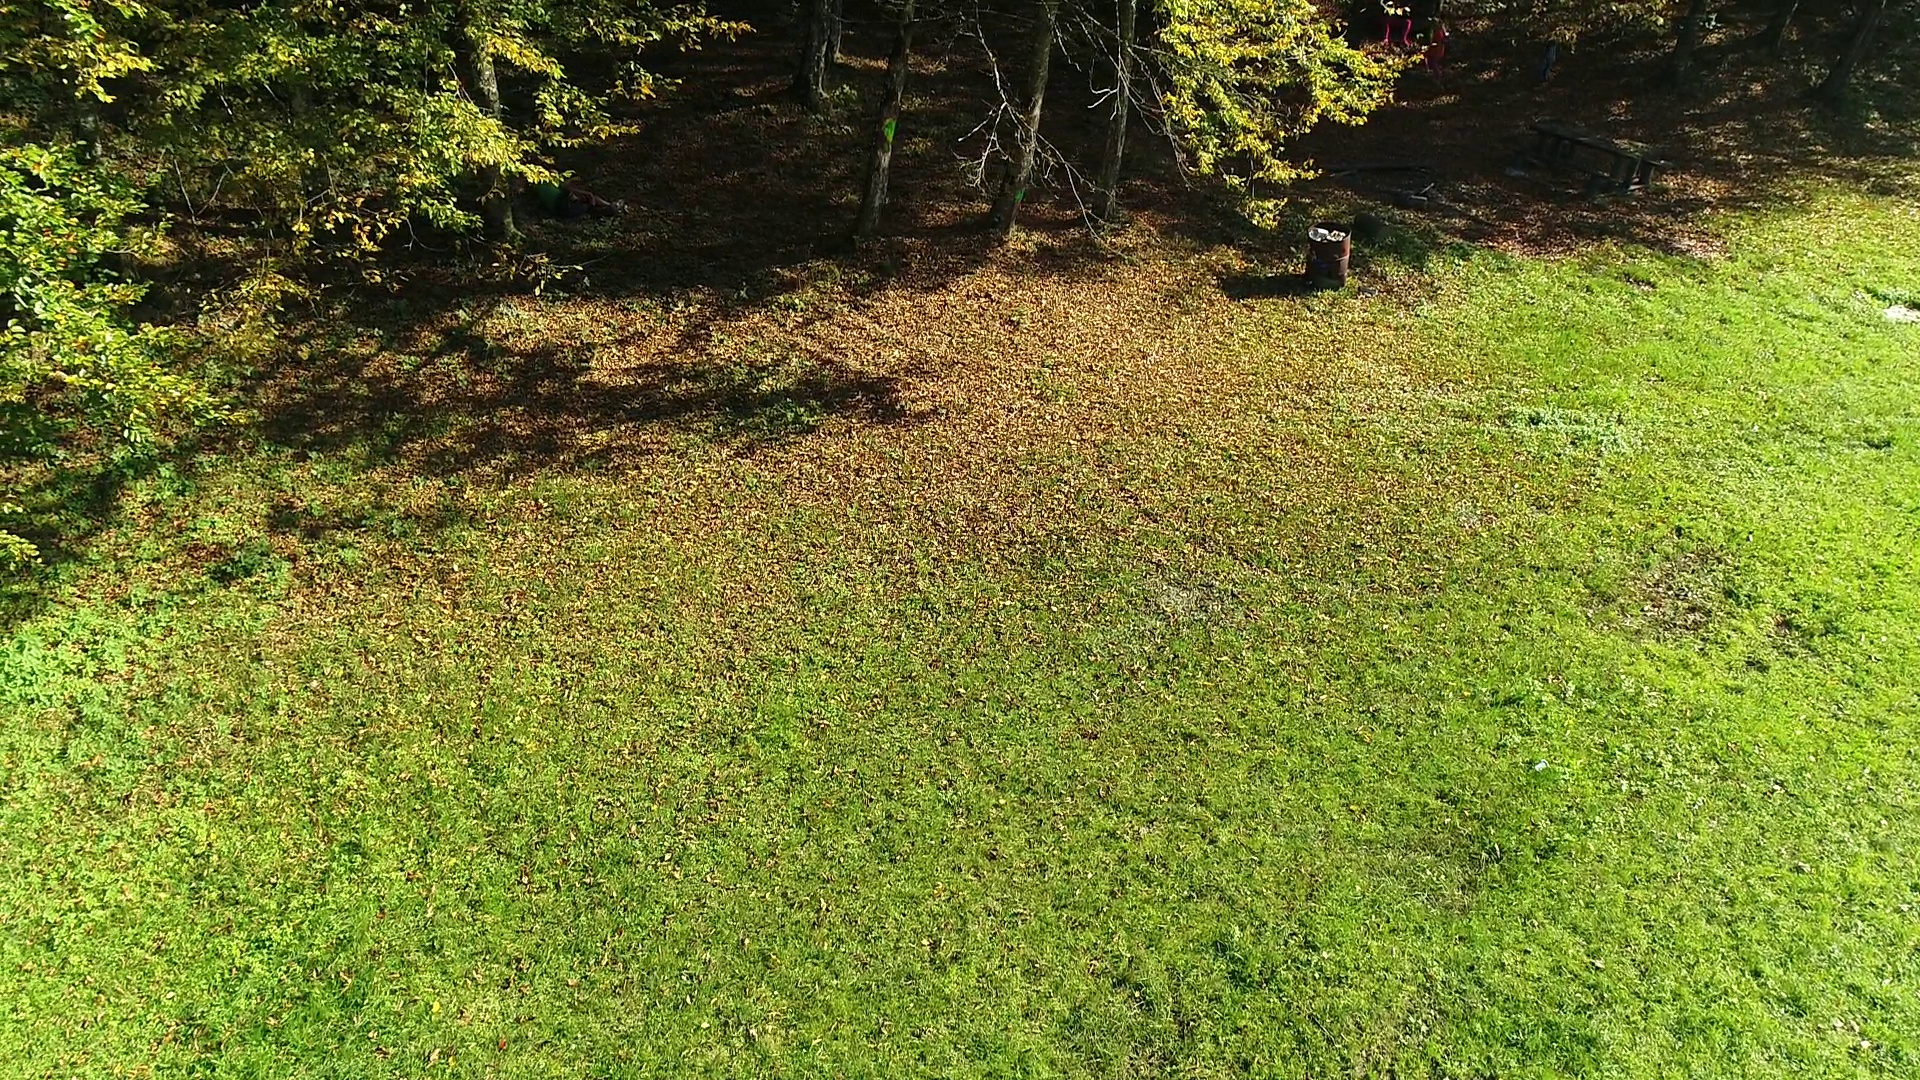not_defined: (1377, 1, 1418, 52)
person: (533, 165, 624, 218), (1422, 18, 1449, 92), (1533, 27, 1559, 86)
